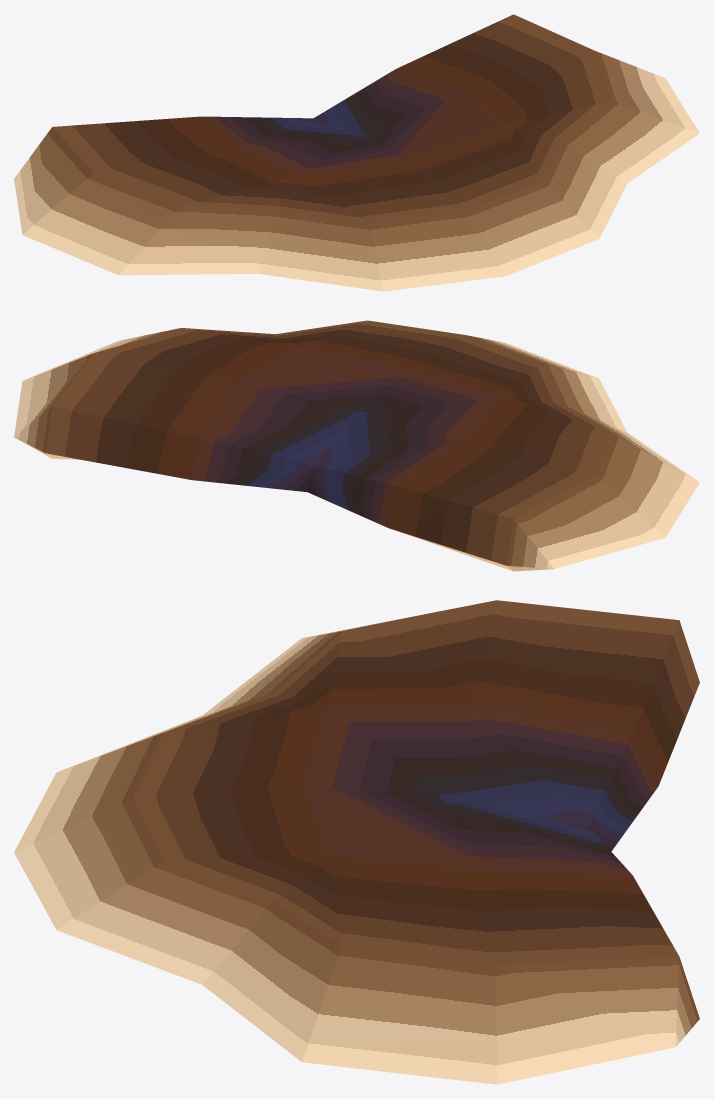
The model's file is LargeHalf_TurkeyTail.glb.
3 renders of one model, top to bottom at view 1: azimuth 30°, elevation 25°; view 2: azimuth 150°, elevation 25°; view 3: azimuth 270°, elevation 25°, orthographic. The views are drawn at different scales.
Visible parts, largest first — view 1: Turkey_largehalf; view 2: Turkey_largehalf; view 3: Turkey_largehalf.
Boxes of the visible parts, x1,y1,x2,y2 form: Turkey_largehalf: [14, 14, 699, 291]; Turkey_largehalf: [14, 320, 699, 571]; Turkey_largehalf: [14, 600, 699, 1084].
Bounding box in the file's own units: 4.28 × 0.4467 × 2.64.
Materials: 1 (1 with a texture image).
